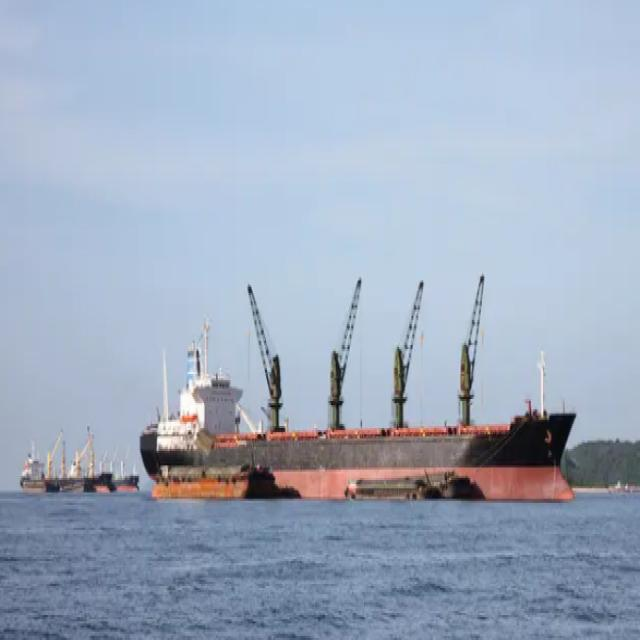cargoship: (140, 276, 583, 512), (24, 427, 113, 498), (100, 449, 142, 493)
